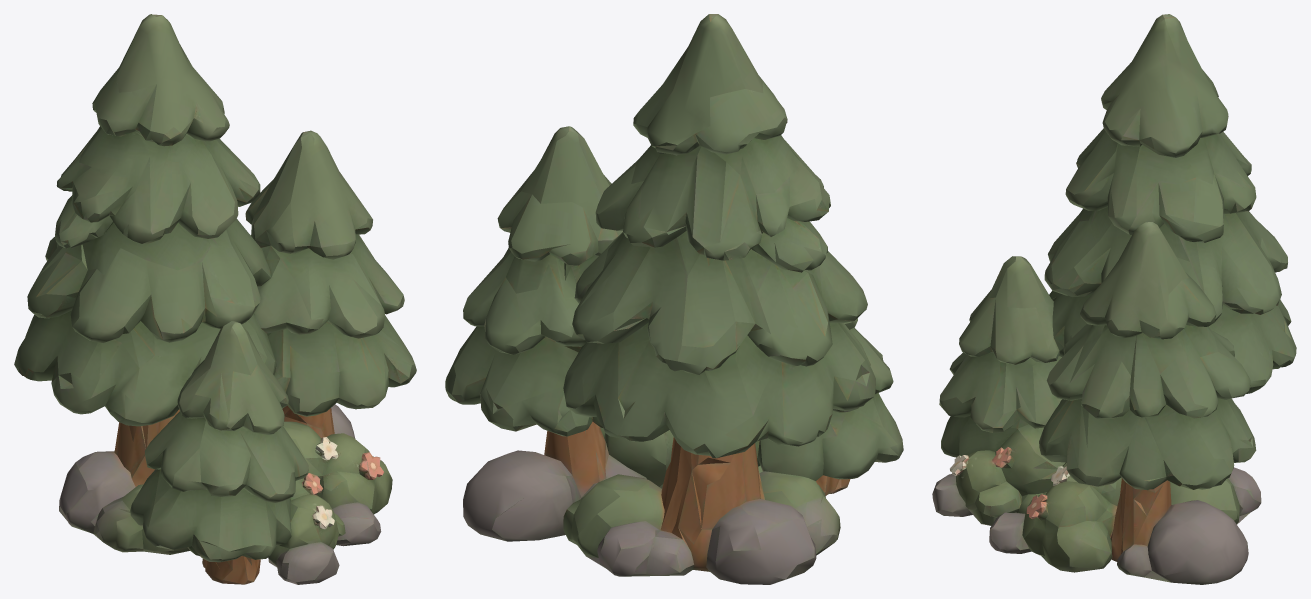
File: smallPine.glb
3 views of the same model, side by side, from view 1: azimuth 30°, elevation 25°; view 2: azimuth 150°, elevation 25°; view 3: azimuth 270°, elevation 25° (orthographic). The views are drawn at different scales.
Visible parts, largest first — view 1: Mesh_0; view 2: Mesh_0; view 3: Mesh_0.
Boxes of the visible parts, x1=… form: Mesh_0: x1=14, y1=14, x2=416, y2=584; Mesh_0: x1=445, y1=14, x2=903, y2=584; Mesh_0: x1=932, y1=14, x2=1296, y2=584.
Bounding box in the file's own units: 1.2 × 1.61 × 1.12.
Materials: 1 (1 with a texture image).
